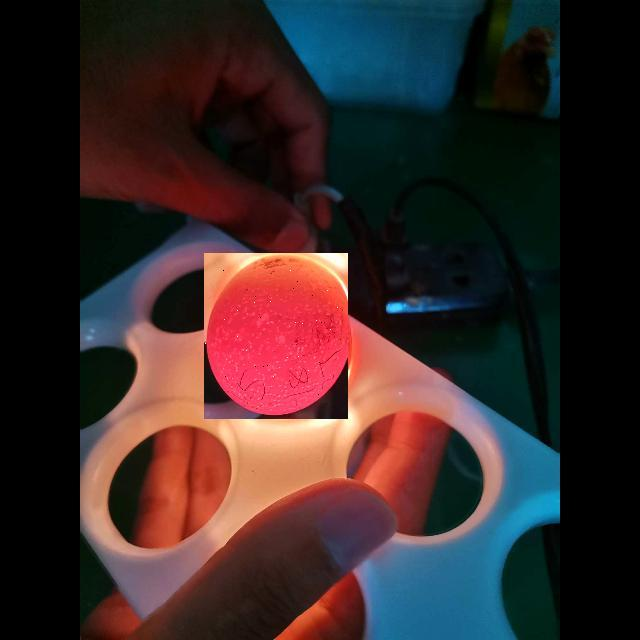Infertile: (204, 253, 348, 419)
